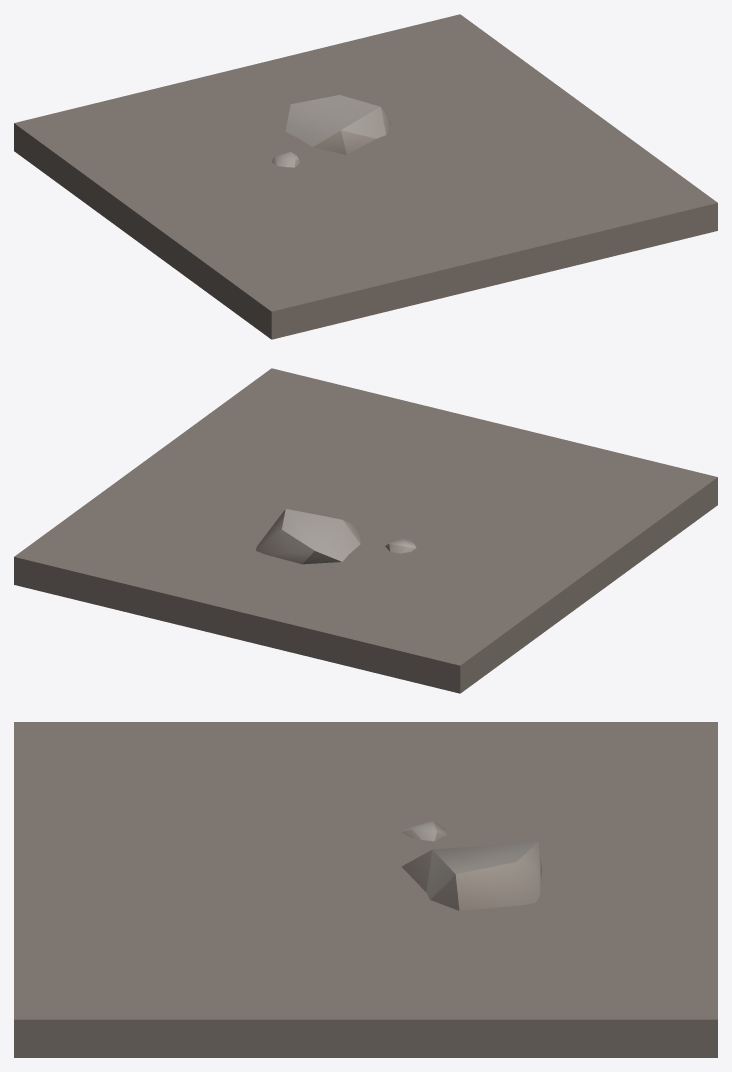
File: dirt_c.glb
3 renders of one model, top to bottom at view 1: azimuth 30°, elevation 25°; view 2: azimuth 150°, elevation 25°; view 3: azimuth 270°, elevation 25°, orthographic. The views are drawn at different scales.
Parts seen in each view (by area): view 1: floor_dirt_small_C; view 2: floor_dirt_small_C; view 3: floor_dirt_small_C.
Part boxes in pixels (x1,y1,x2,y2): floor_dirt_small_C: [14, 14, 717, 339]; floor_dirt_small_C: [14, 368, 717, 693]; floor_dirt_small_C: [14, 722, 717, 1057].
Size of the model in its own units: 2 by 0.2085 by 2.
Materials: 1 (1 with a texture image).
